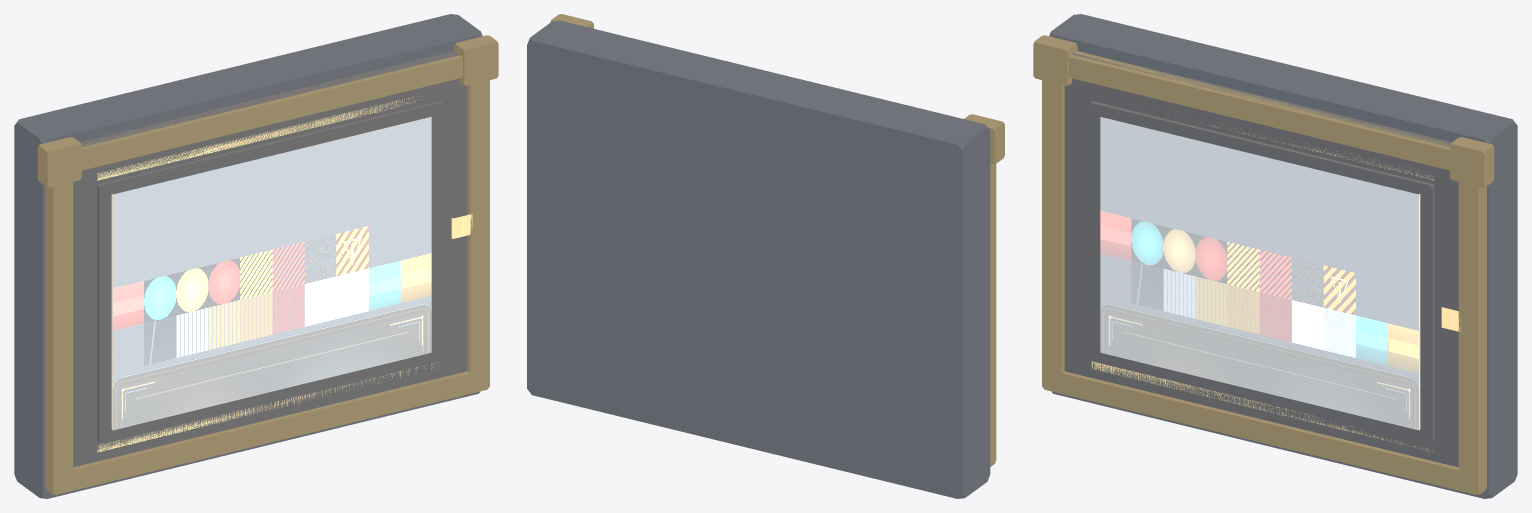
The model's file is room_l610_wall_memory_screen.glb.
3 views of the same model, side by side, from view 1: azimuth 30°, elevation 25°; view 2: azimuth 150°, elevation 25°; view 3: azimuth 330°, elevation 25° (orthographic).
Parts seen in each view (by area): view 1: wms_screen, wms_black_glass_face, wms_panel_backplate, wms_screen_bezel, wms_brass_border_bottom, wms_brass_border_top, wms_brass_border_left, wms_brass_border_right, wms_amber_accent_top, wms_brass_corner_tl, wms_brass_corner_tr, wms_amber_accent_bottom; view 2: wms_panel_backplate, wms_brass_border_left, wms_brass_corner_tl; view 3: wms_screen, wms_black_glass_face, wms_panel_backplate, wms_screen_bezel, wms_brass_border_top, wms_brass_border_bottom, wms_brass_border_right, wms_brass_border_left, wms_brass_corner_tr, wms_brass_corner_tl, wms_amber_accent_bottom.
Boxes of the visible parts, x1,y1,x2,y2 form: wms_screen: (111, 117, 431, 430); wms_black_glass_face: (73, 51, 467, 467); wms_panel_backplate: (14, 14, 482, 498); wms_screen_bezel: (97, 101, 442, 441); wms_brass_border_bottom: (45, 369, 489, 494); wms_brass_border_top: (82, 51, 462, 170); wms_brass_border_left: (45, 182, 73, 494); wms_brass_border_right: (467, 80, 489, 391); wms_amber_accent_top: (97, 96, 414, 180); wms_brass_corner_tl: (37, 137, 81, 187); wms_brass_corner_tr: (454, 35, 498, 85); wms_amber_accent_bottom: (97, 362, 437, 452); wms_panel_backplate: (527, 20, 990, 498); wms_brass_border_left: (990, 163, 996, 466); wms_brass_corner_tl: (964, 114, 1004, 163); wms_screen: (1100, 117, 1420, 430); wms_black_glass_face: (1064, 51, 1458, 467); wms_panel_backplate: (1049, 14, 1517, 498); wms_screen_bezel: (1089, 101, 1434, 441); wms_brass_border_top: (1069, 51, 1449, 170); wms_brass_border_bottom: (1042, 369, 1486, 494); wms_brass_border_right: (1458, 182, 1486, 494); wms_brass_border_left: (1042, 80, 1064, 392); wms_brass_corner_tr: (1450, 137, 1494, 187); wms_brass_corner_tl: (1033, 35, 1077, 85); wms_amber_accent_bottom: (1091, 361, 1432, 451).
Bounding box in the file's own units: 1.84 × 1.4 × 0.27.
6 materials, 6 textured.
